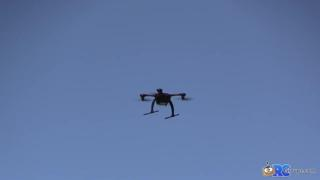UAV: (140, 88, 194, 119)
